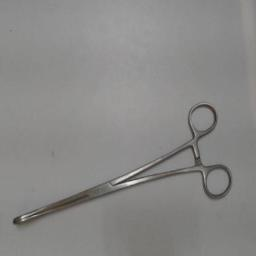Sponge Forceps: (8, 96, 236, 232)
